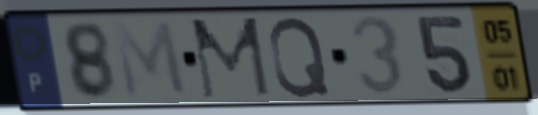3: (347, 12, 408, 99)
5: (411, 13, 475, 97)
8: (60, 18, 120, 103)
M: (187, 14, 274, 103), (108, 18, 192, 101)
Q: (265, 14, 333, 101)
